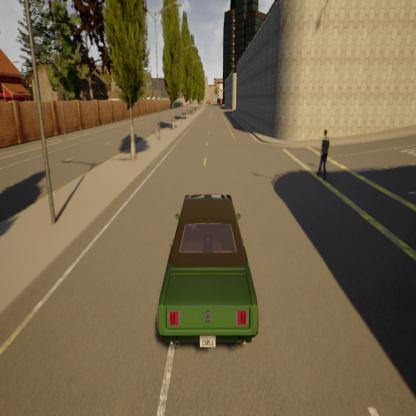Cars: (146, 172, 266, 368)
Pedestrian: (316, 124, 334, 187)
